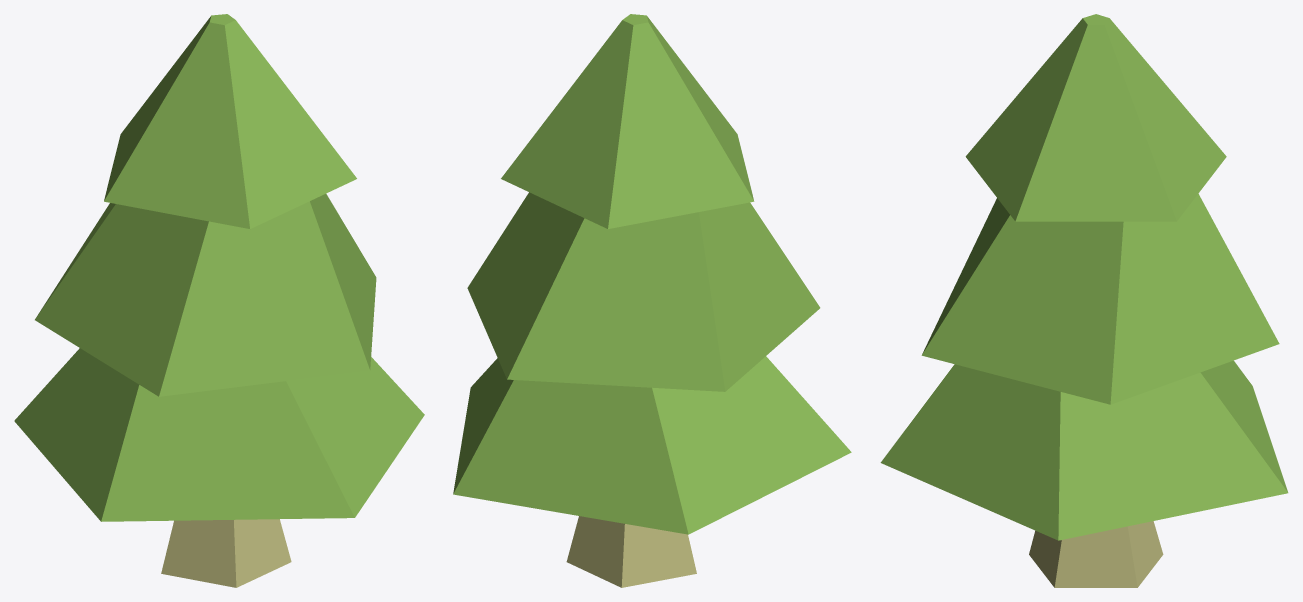
Rendered from treeBlue.fbx.
3 views of the same model, side by side, from view 1: azimuth 30°, elevation 25°; view 2: azimuth 150°, elevation 25°; view 3: azimuth 270°, elevation 25° (orthographic).
Parts seen in each view (by area): view 1: Cylinder.118, Cylinder.000; view 2: Cylinder.118, Cylinder.000; view 3: Cylinder.118, Cylinder.000.
Boxes of the visible parts, left/top/right/bottom form: Cylinder.118: left=14, top=14, right=424, bottom=521; Cylinder.000: left=161, top=519, right=291, bottom=587; Cylinder.118: left=453, top=14, right=851, bottom=534; Cylinder.000: left=566, top=516, right=696, bottom=587; Cylinder.118: left=880, top=14, right=1288, bottom=540; Cylinder.000: left=1029, top=521, right=1163, bottom=587.
Bounding box in the file's own units: 493 × 721 × 490.
